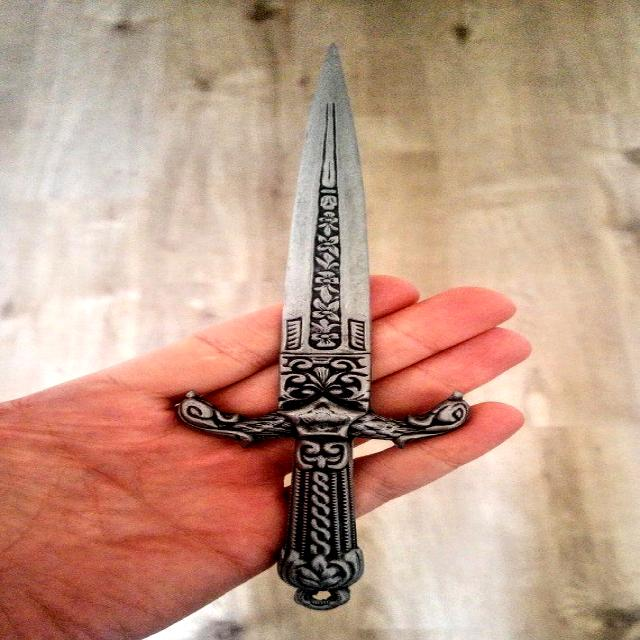short sword: (183, 44, 468, 616)
